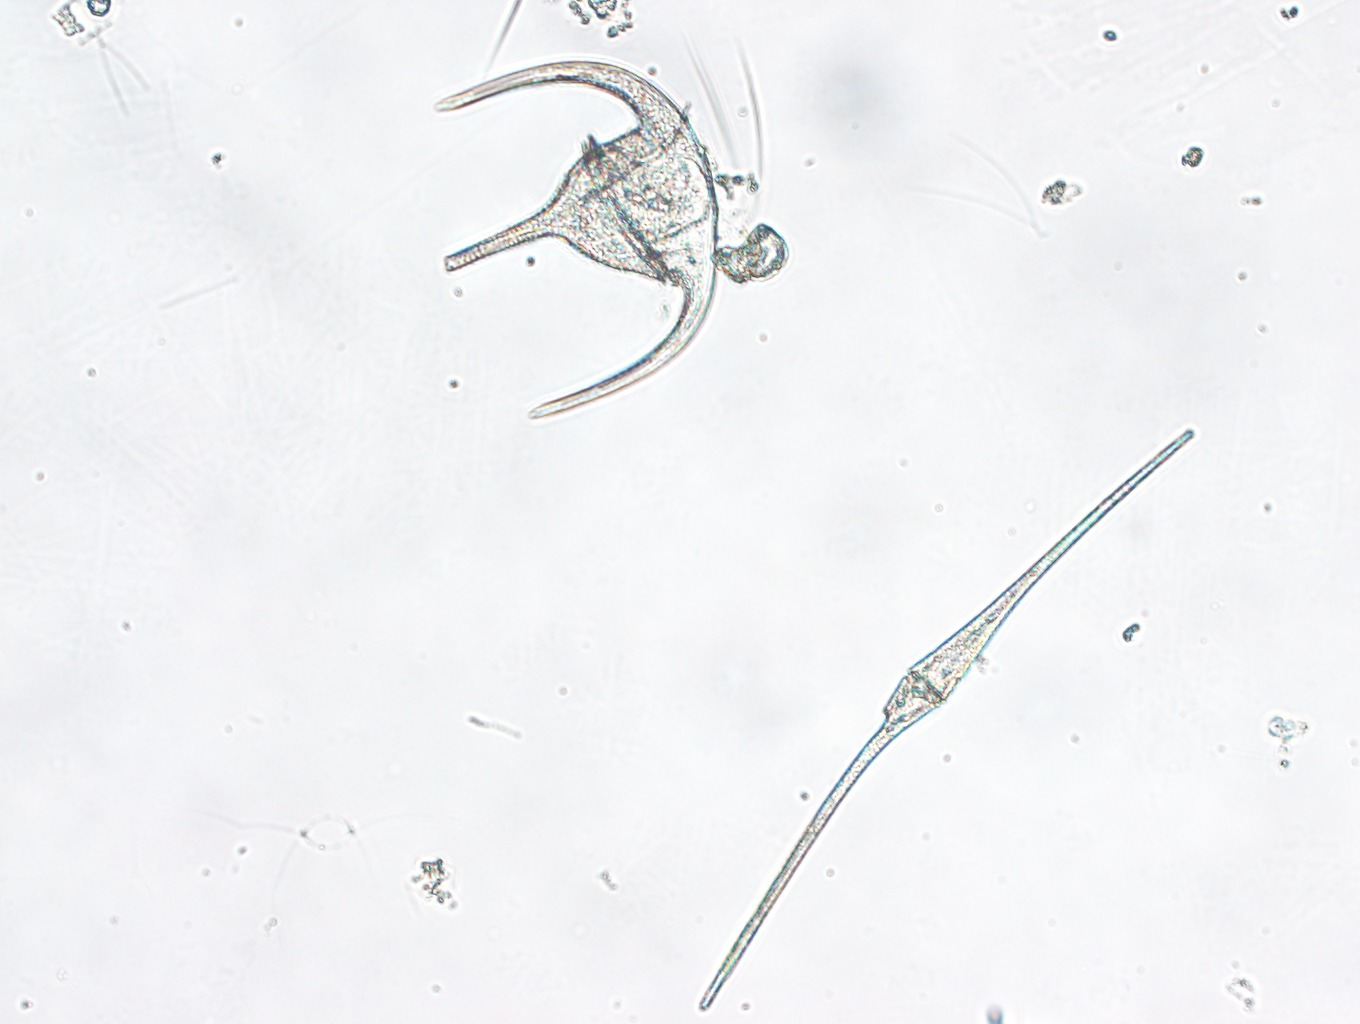ceratium fusus: (700, 425, 1199, 1015)
ceratium tripos: (433, 58, 721, 419)
chaetoceros: (51, 1, 149, 117)
